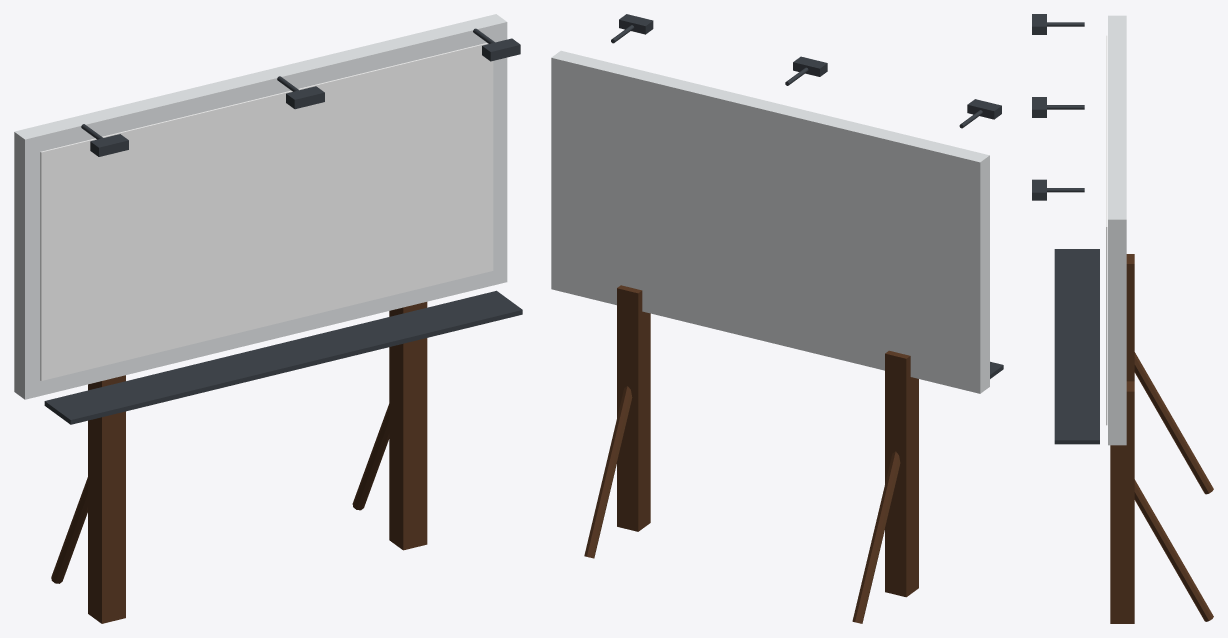
Rendered from law_billboard.glb.
3 renders of one model, left to right at view 1: azimuth 30°, elevation 25°; view 2: azimuth 150°, elevation 25°; view 3: azimuth 270°, elevation 25°, orthographic. The views are drawn at different scales.
Visible parts, largest first — view 1: Face, LawBillboard_body; view 2: LawBillboard_body; view 3: LawBillboard_body, Face.
Part boxes in pixels (box(x1,y1,x2,y2)): Face: box(40, 43, 493, 380); LawBillboard_body: box(14, 14, 522, 623); LawBillboard_body: box(551, 14, 1003, 623); LawBillboard_body: box(1032, 14, 1213, 623); Face: box(1106, 35, 1107, 425).
Size of the model in its own units: 6.4 by 6.64 by 2.41.
